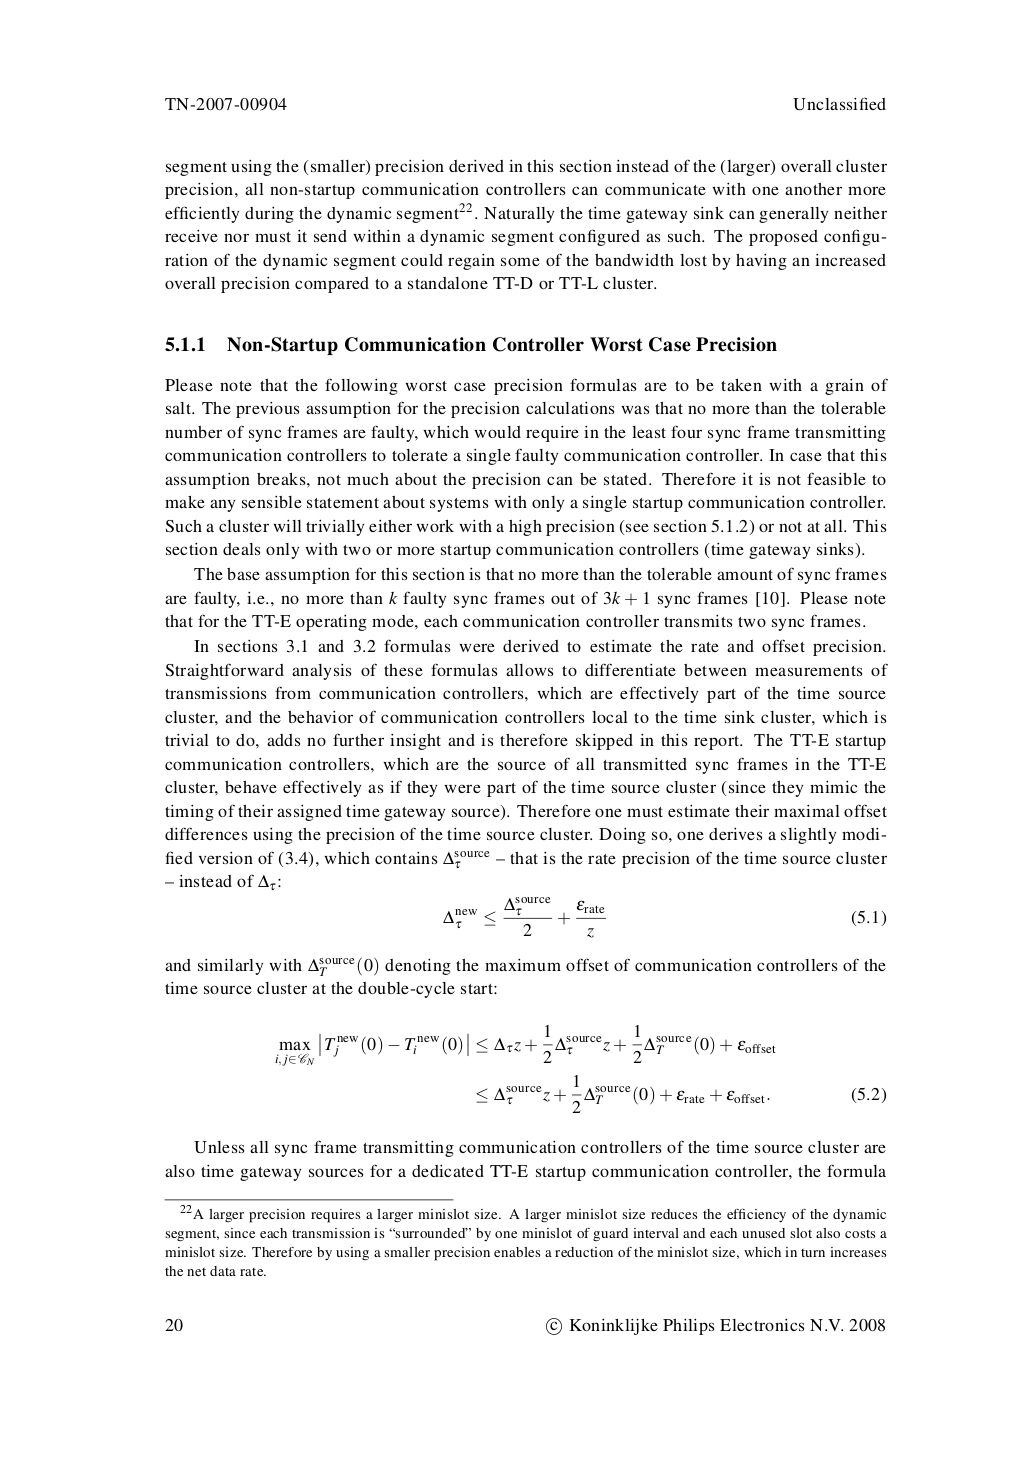formula: (275, 1024, 775, 1066), (443, 895, 886, 938), (476, 1074, 886, 1113)
